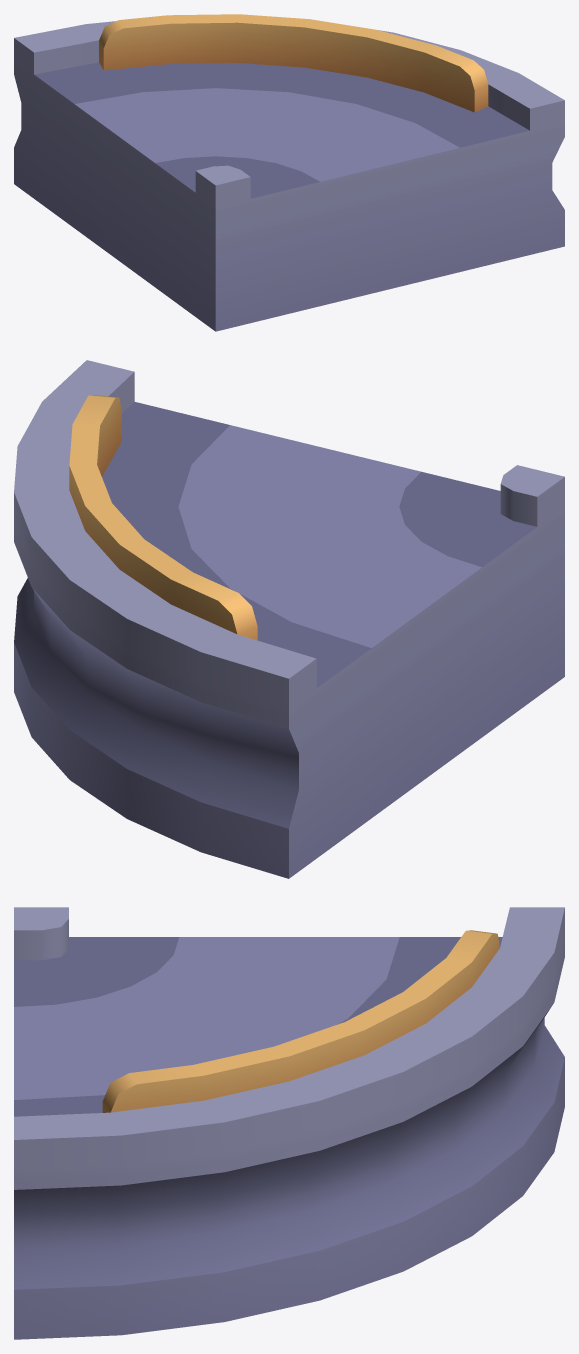
File: conveyor-stripe-corner.glb
The picture shows the model from 3 angles, top to bottom: view 1: azimuth 30°, elevation 25°; view 2: azimuth 150°, elevation 25°; view 3: azimuth 270°, elevation 25°; orthographic projection. The views are drawn at different scales.
Parts seen in each view (by area): view 1: conveyor-stripe-corner; view 2: conveyor-stripe-corner; view 3: conveyor-stripe-corner.
Boxes of the visible parts, x1,y1,x2,y2 form: conveyor-stripe-corner: [14, 14, 564, 331]; conveyor-stripe-corner: [14, 360, 564, 878]; conveyor-stripe-corner: [14, 907, 564, 1339].
Bounding box in the file's own units: 1 × 0.45 × 1.
Materials: 1 (1 with a texture image).
